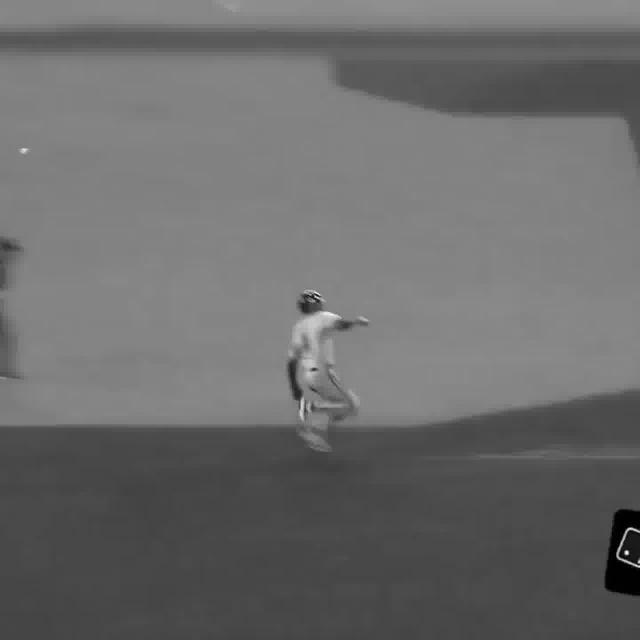baseball: (18, 146, 29, 156)
shoe: (301, 434, 330, 457), (298, 398, 312, 428)
